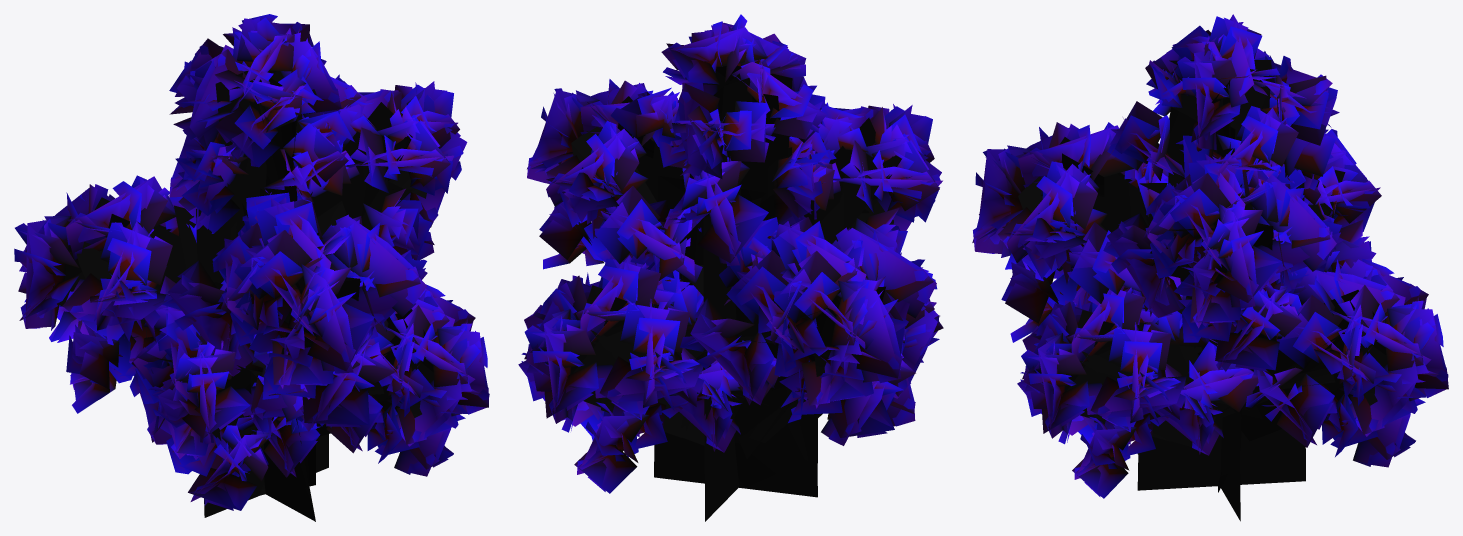
The model's file is holm_oak_2.dae.
3 renders of one model, left to right at view 1: azimuth 30°, elevation 25°; view 2: azimuth 150°, elevation 25°; view 3: azimuth 270°, elevation 25°, orthographic.
Visible parts, largest first — view 1: tree_oak_bush_a1300, tree_oak_bush_a400; view 2: tree_oak_bush_a1300, tree_oak_bush_a400; view 3: tree_oak_bush_a1300, tree_oak_bush_a400.
Boxes of the visible parts, x1,y1,x2,y2 form: tree_oak_bush_a1300: (14, 14, 489, 510); tree_oak_bush_a400: (15, 18, 485, 521); tree_oak_bush_a1300: (518, 14, 943, 493); tree_oak_bush_a400: (518, 14, 942, 521); tree_oak_bush_a1300: (972, 15, 1448, 498); tree_oak_bush_a400: (973, 14, 1443, 521).
Bounding box in the file's own units: 8.63 × 8.99 × 9.77.
